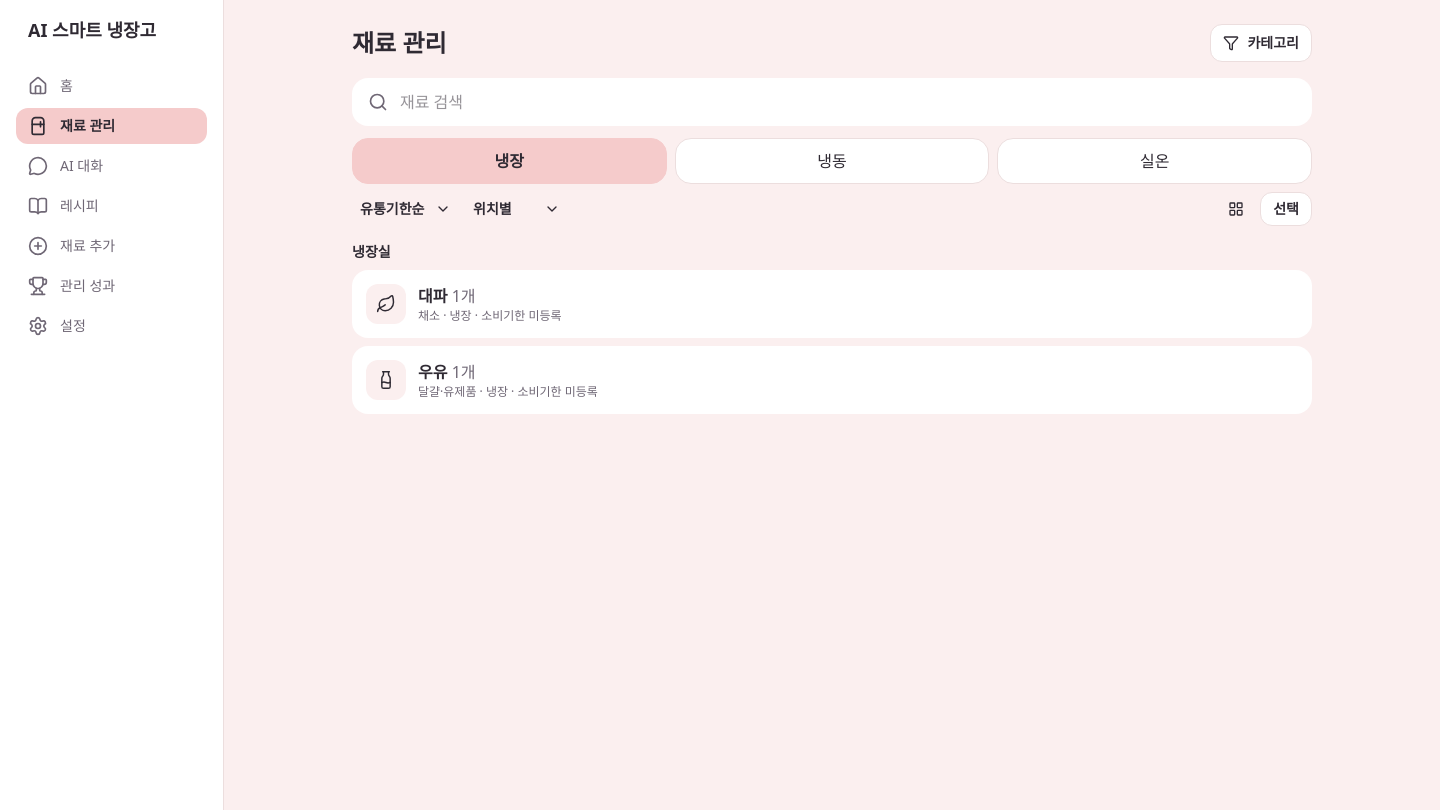
Test case: 재료 관리 화면 › 검색과 카테고리로 목록을 좁힌다
Expected: the link "우유 1개 달걀·유제품 · 냉장 · 소비기한 미등록" is shown, [352,346,1312,414]
Type "대" into the search field labelled "재료 검색" at (848, 102), box [400,90,1296,114]
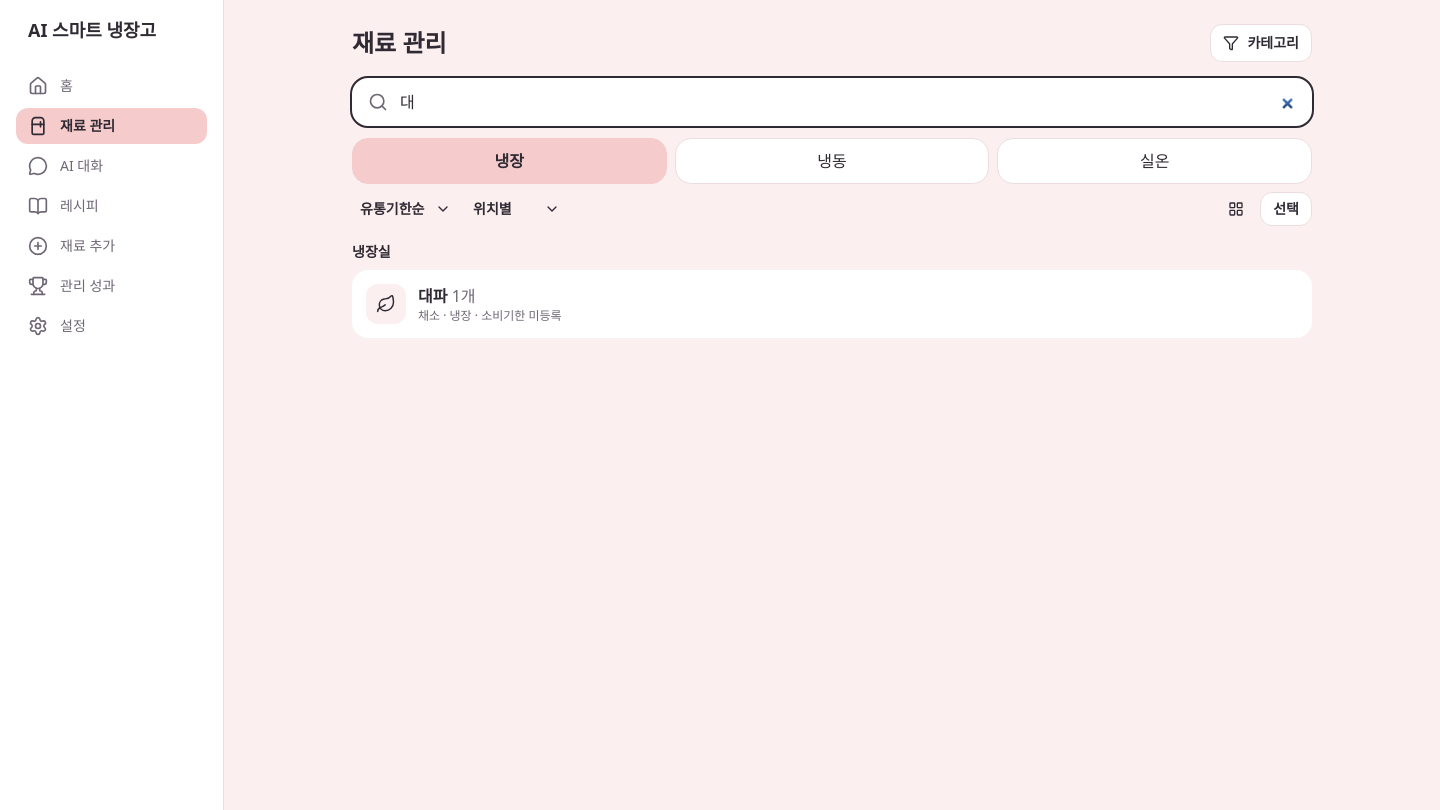
Expected: the link "대파 1개 채소 · 냉장 · 소비기한 미등록" is shown, [352,270,1312,338]
Now the link "우유" is gone
Click the button "카테고리" at (1261, 43), box [1210,24,1312,62]
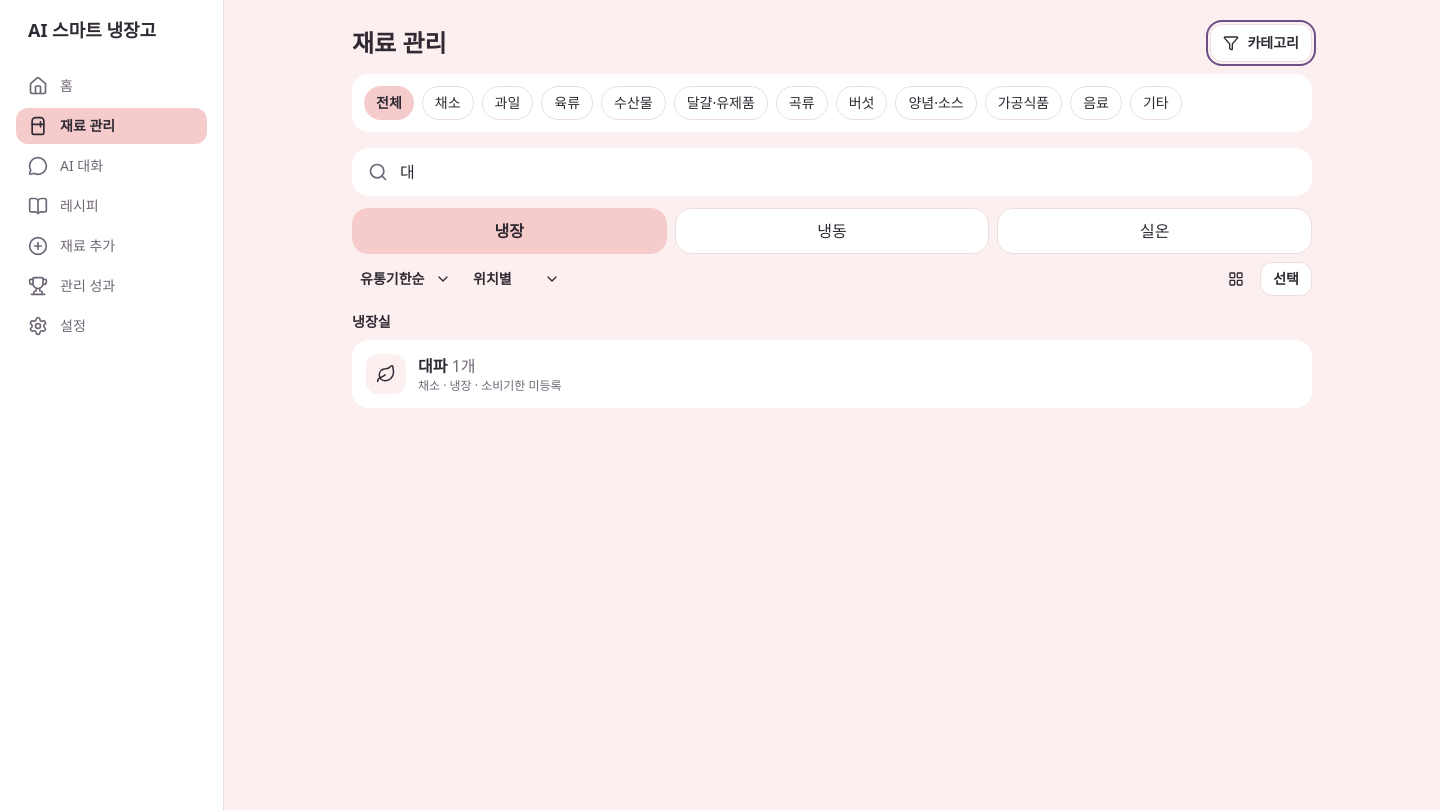
Click the button "과일" at (507, 103), box [482,86,533,120]
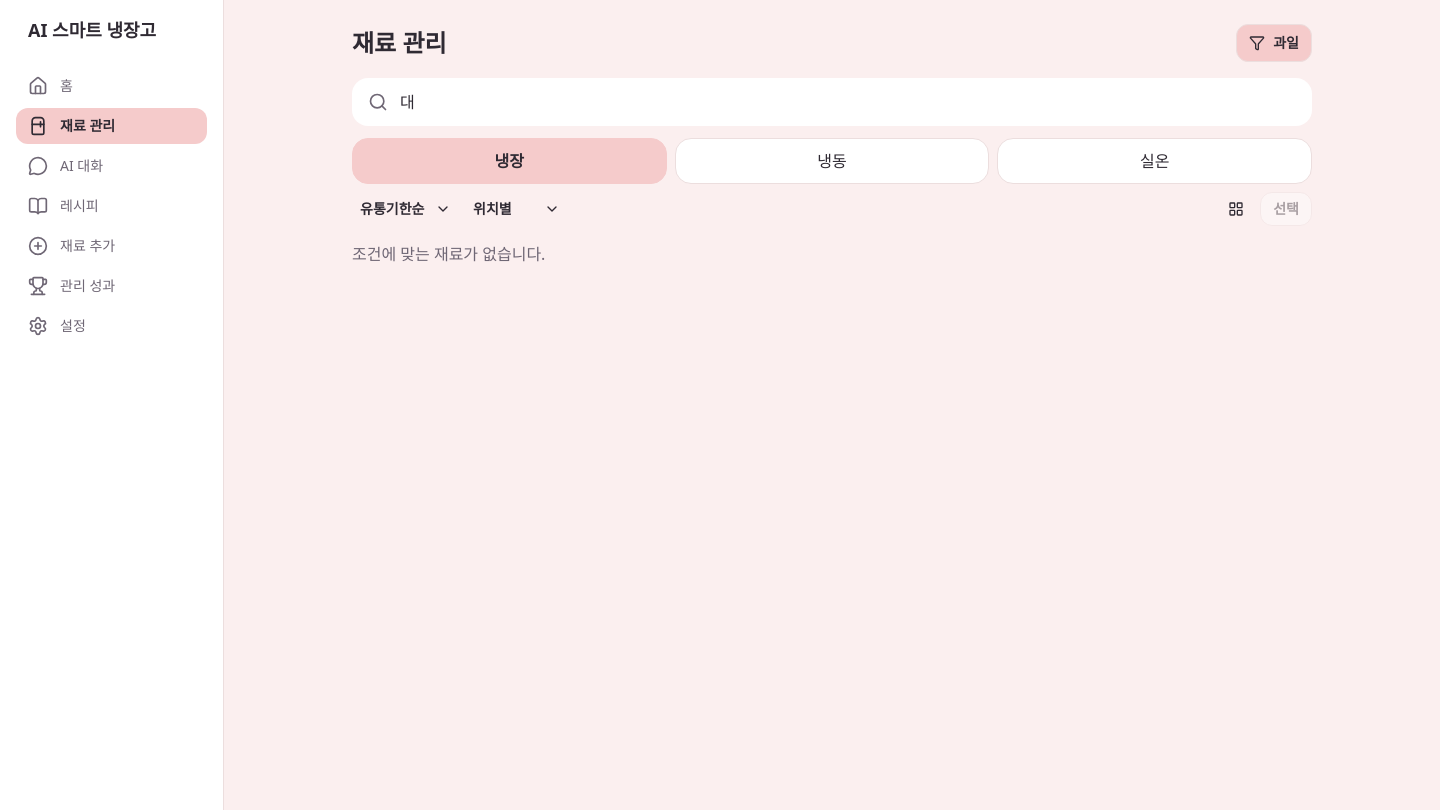
Now the text "조건에 맞는 재료가 없습니다." is shown, box [352,243,545,265]
